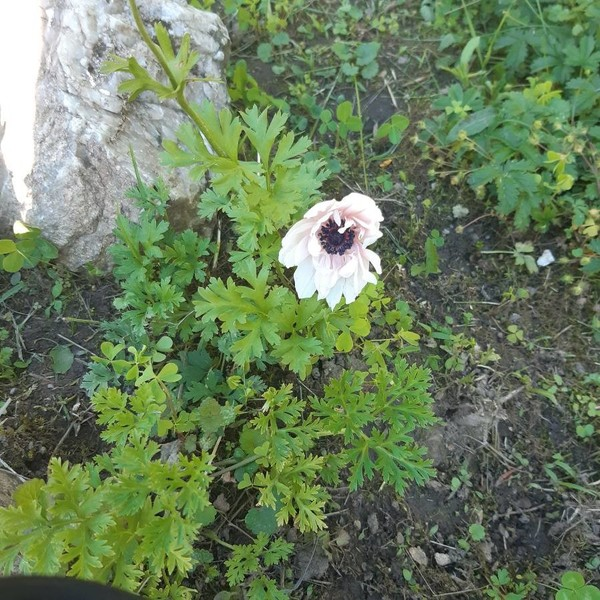obstacle: (86, 46, 389, 503), (456, 23, 576, 238), (28, 442, 221, 560)
